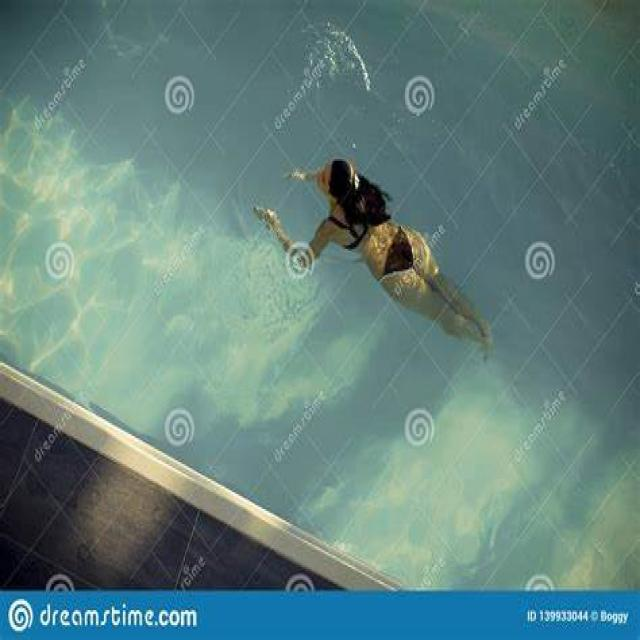swimming: (263, 131, 526, 362)
